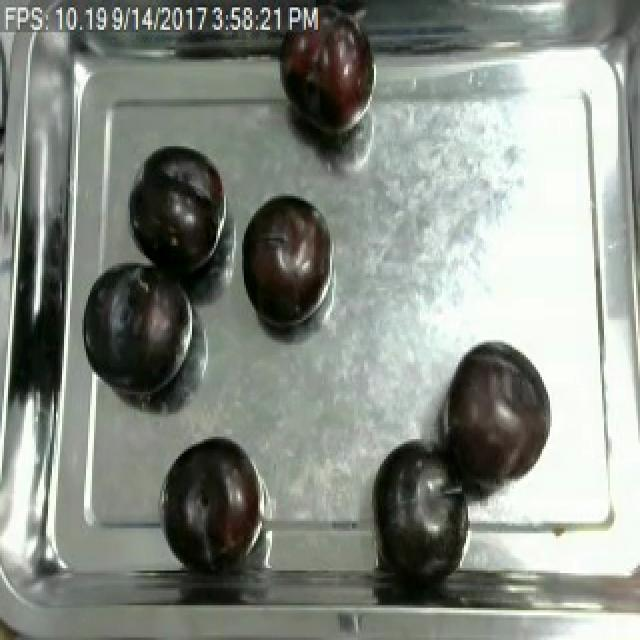Fruit: (436, 340, 554, 496), (78, 256, 198, 400), (272, 0, 382, 141), (160, 432, 270, 566), (126, 142, 230, 280), (234, 188, 332, 332)
